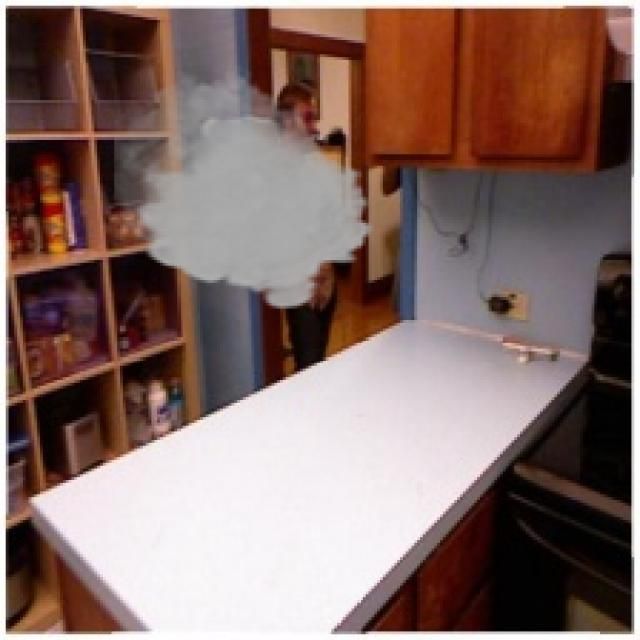smoke: (114, 63, 377, 311)
